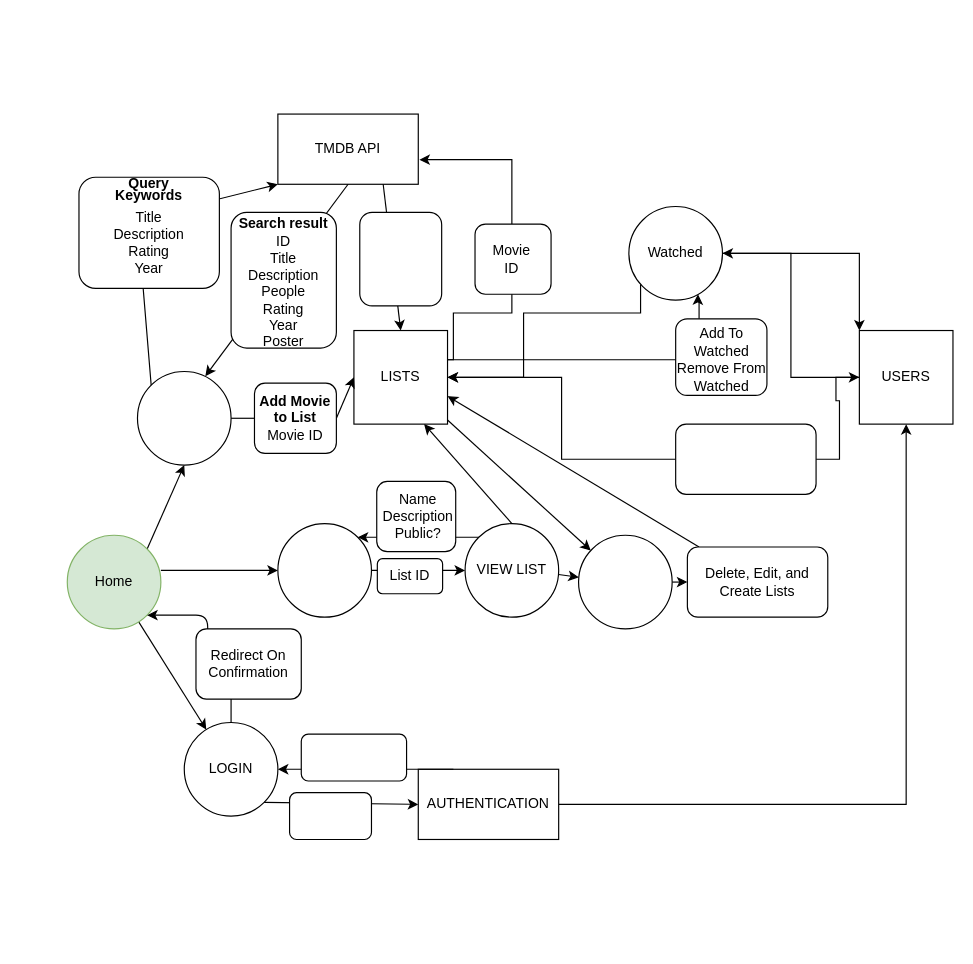
Image size: 973x964. Some labels were removed from this diagram. The centre of each missing label's shape, as x and y in pixels:
"Confirm/Reject Login" goes at pixel 353 757.
"Created/followed lists" goes at pixel 745 458.
"LIST SEARCH" goes at pixel 324 569.
"MOVIE SEARCH" goes at pixel 183 417.
"POST" goes at pixel 624 581.
"Title Description Rating Year Poster" goes at pixel 400 258.
"Verify" goes at pixel 329 815.
